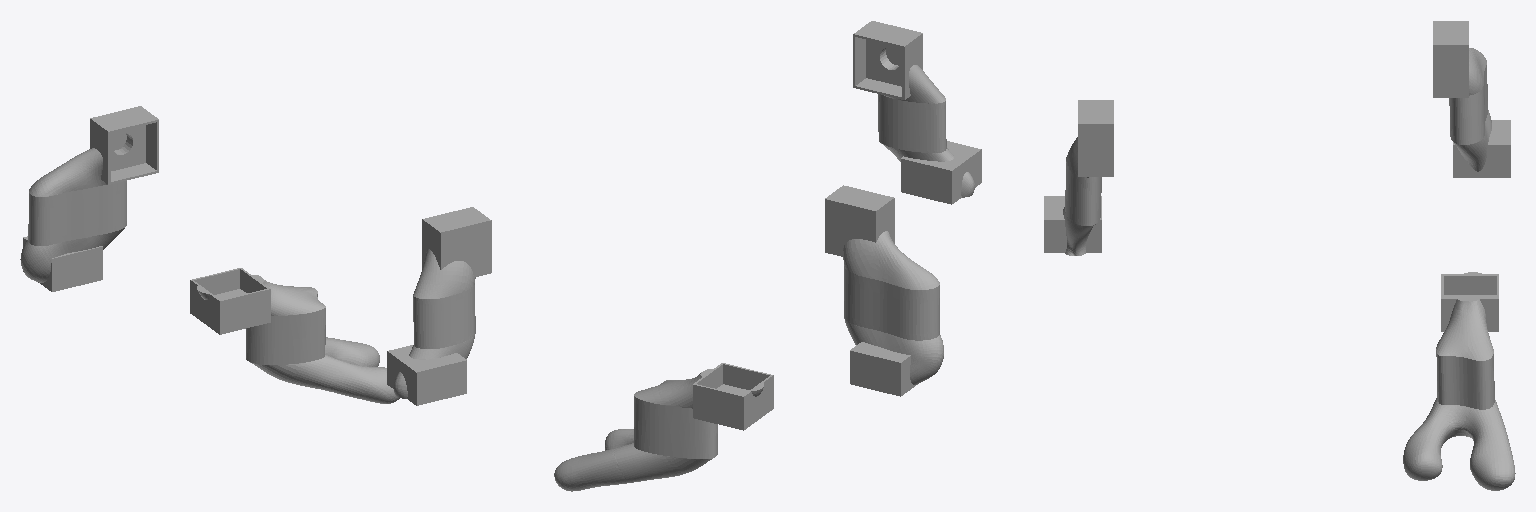
The robot description file, URDF, robot "FrogBot3_top-FrogBot3-x-9_bottom-FrogBot3-x-9":
<?xml version="1.0" ?>
<robot name="FrogBot3_top-FrogBot3-x-9_bottom-FrogBot3-x-9">

<material name="pla_5_percent_infill">
  <color rgba="0.700 0.700 0.700 1.000"/>
</material>

<link name="base_link">
  <inertial>
    <origin xyz="0 0 0" rpy="0 0 0"/>
    <mass value="1.5419899792307459"/>
    <inertia ixx="0.0054836076661745285" iyy="0.013703915460827342" izz="0.013742849788882953" ixy="5.961000823851627e-05" iyz="4.9944941207841843e-05" ixz="-0.0023657822822012154"/>
  </inertial>
  <visual>
    <origin xyz="0 0 0" rpy="0 0 0"/>
    <geometry>
      <mesh filename="simple_meshes/base_link.stl" scale="0.001 0.001 0.001"/>
    </geometry>
    <material name="pla_5_percent_infill"/>
  </visual>
  <collision>
    <origin xyz="0 0 0" rpy="0 0 0"/>
    <geometry>
      <mesh filename="simple_meshes/base_link.stl" scale="0.001 0.001 0.001"/>
    </geometry>
  </collision>
</link>

<link name="body_1_0_1">
  <inertial>
    <origin xyz="-0.065859 -0.113451 -0.001976" rpy="0 0 0"/>
    <mass value="0.05825244996075587"/>
    <inertia ixx="7.401779701818301e-05" iyy="9.274657633629422e-05" izz="3.144661036998228e-05" ixy="3.906924635971223e-06" iyz="5.81595740162434e-06" ixz="-2.1796843568814986e-05"/>
  </inertial>
  <visual>
    <origin xyz="-0.065859 -0.113451 -0.001976" rpy="0 0 0"/>
    <geometry>
      <mesh filename="simple_meshes/body_1_0_1.stl" scale="0.001 0.001 0.001"/>
    </geometry>
    <material name="pla_5_percent_infill"/>
  </visual>
  <collision>
    <origin xyz="-0.065859 -0.113451 -0.001976" rpy="0 0 0"/>
    <geometry>
      <mesh filename="simple_meshes/body_1_0_1.stl" scale="0.001 0.001 0.001"/>
    </geometry>
  </collision>
</link>

<link name="body_1_1_1">
  <inertial>
    <origin xyz="0.083929 -0.113451 -0.010696" rpy="0 0 0"/>
    <mass value="0.09018840338840749"/>
    <inertia ixx="0.00011034544128908901" iyy="0.00016147301227200468" izz="7.169689434959785e-05" ixy="7.1595030686100614e-06" iyz="1.4293410132438177e-05" ixz="-3.633021271587161e-05"/>
  </inertial>
  <visual>
    <origin xyz="0.083929 -0.113451 -0.010696" rpy="0 0 0"/>
    <geometry>
      <mesh filename="simple_meshes/body_1_1_1.stl" scale="0.001 0.001 0.001"/>
    </geometry>
    <material name="pla_5_percent_infill"/>
  </visual>
  <collision>
    <origin xyz="0.083929 -0.113451 -0.010696" rpy="0 0 0"/>
    <geometry>
      <mesh filename="simple_meshes/body_1_1_1.stl" scale="0.001 0.001 0.001"/>
    </geometry>
  </collision>
</link>

<link name="body_1_2_1">
  <inertial>
    <origin xyz="-0.060736 0.113451 -0.005366" rpy="0 0 0"/>
    <mass value="0.060377482328634796"/>
    <inertia ixx="8.061035058996619e-05" iyy="9.781911676444733e-05" izz="3.08981335929142e-05" ixy="-3.849492058857252e-06" iyz="-8.245144629617025e-06" ixz="-2.264904297466596e-05"/>
  </inertial>
  <visual>
    <origin xyz="-0.060736 0.113451 -0.005366" rpy="0 0 0"/>
    <geometry>
      <mesh filename="simple_meshes/body_1_2_1.stl" scale="0.001 0.001 0.001"/>
    </geometry>
    <material name="pla_5_percent_infill"/>
  </visual>
  <collision>
    <origin xyz="-0.060736 0.113451 -0.005366" rpy="0 0 0"/>
    <geometry>
      <mesh filename="simple_meshes/body_1_2_1.stl" scale="0.001 0.001 0.001"/>
    </geometry>
  </collision>
</link>

<link name="body_1_3_1">
  <inertial>
    <origin xyz="0.093982 0.113451 -0.005431" rpy="0 0 0"/>
    <mass value="0.0938692764327006"/>
    <inertia ixx="0.0001046186995870774" iyy="0.0001469423829291458" izz="6.591365614965101e-05" ixy="-5.552051593383459e-06" iyz="-1.29619168445878e-05" ixz="-2.6967552913130456e-05"/>
  </inertial>
  <visual>
    <origin xyz="0.093982 0.113451 -0.005431" rpy="0 0 0"/>
    <geometry>
      <mesh filename="simple_meshes/body_1_3_1.stl" scale="0.001 0.001 0.001"/>
    </geometry>
    <material name="pla_5_percent_infill"/>
  </visual>
  <collision>
    <origin xyz="0.093982 0.113451 -0.005431" rpy="0 0 0"/>
    <geometry>
      <mesh filename="simple_meshes/body_1_3_1.stl" scale="0.001 0.001 0.001"/>
    </geometry>
  </collision>
</link>

<link name="body_2_0_1">
  <inertial>
    <origin xyz="-0.026166 -0.164707 0.127895" rpy="0 0 0"/>
    <mass value="0.12142814301219355"/>
    <inertia ixx="0.00015726924153450055" iyy="0.0002881354570726897" izz="0.00021515924644420654" ixy="3.2779278202870604e-06" iyz="-5.447619948898211e-06" ixz="0.00011102038337744901"/>
  </inertial>
  <visual>
    <origin xyz="-0.026166 -0.164707 0.127895" rpy="0 0 0"/>
    <geometry>
      <mesh filename="simple_meshes/body_2_0_1.stl" scale="0.001 0.001 0.001"/>
    </geometry>
    <material name="pla_5_percent_infill"/>
  </visual>
  <collision>
    <origin xyz="-0.026166 -0.164707 0.127895" rpy="0 0 0"/>
    <geometry>
      <mesh filename="simple_meshes/body_2_0_1.stl" scale="0.001 0.001 0.001"/>
    </geometry>
  </collision>
</link>

<link name="body_2_1_1">
  <inertial>
    <origin xyz="0.127747 -0.174737 0.127895" rpy="0 0 0"/>
    <mass value="0.09571732939847451"/>
    <inertia ixx="0.00011195646025483844" iyy="0.0001651913556045886" izz="0.00011191993527143781" ixy="-1.041822947803737e-05" iyz="5.977710212816401e-06" ixz="6.22998779587899e-05"/>
  </inertial>
  <visual>
    <origin xyz="0.127747 -0.174737 0.127895" rpy="0 0 0"/>
    <geometry>
      <mesh filename="simple_meshes/body_2_1_1.stl" scale="0.001 0.001 0.001"/>
    </geometry>
    <material name="pla_5_percent_infill"/>
  </visual>
  <collision>
    <origin xyz="0.127747 -0.174737 0.127895" rpy="0 0 0"/>
    <geometry>
      <mesh filename="simple_meshes/body_2_1_1.stl" scale="0.001 0.001 0.001"/>
    </geometry>
  </collision>
</link>

<link name="body_2_2_1">
  <inertial>
    <origin xyz="-0.021708 0.167525 0.127895" rpy="0 0 0"/>
    <mass value="0.11898774937774143"/>
    <inertia ixx="0.0001544200841262517" iyy="0.0002833430003338789" izz="0.0002102682674553786" ixy="2.8769886577021102e-06" iyz="-2.2440762868902037e-06" ixz="0.000109949722128837"/>
  </inertial>
  <visual>
    <origin xyz="-0.021708 0.167525 0.127895" rpy="0 0 0"/>
    <geometry>
      <mesh filename="simple_meshes/body_2_2_1.stl" scale="0.001 0.001 0.001"/>
    </geometry>
    <material name="pla_5_percent_infill"/>
  </visual>
  <collision>
    <origin xyz="-0.021708 0.167525 0.127895" rpy="0 0 0"/>
    <geometry>
      <mesh filename="simple_meshes/body_2_2_1.stl" scale="0.001 0.001 0.001"/>
    </geometry>
  </collision>
</link>

<link name="body_2_3_1">
  <inertial>
    <origin xyz="0.128136 0.172985 0.127895" rpy="0 0 0"/>
    <mass value="0.09031557015637327"/>
    <inertia ixx="0.00010964595064733192" iyy="0.0001543168102944477" izz="0.00010846688739868902" ixy="8.577887715155788e-06" iyz="-7.466082158280422e-06" ixz="5.684621143704099e-05"/>
  </inertial>
  <visual>
    <origin xyz="0.128136 0.172985 0.127895" rpy="0 0 0"/>
    <geometry>
      <mesh filename="simple_meshes/body_2_3_1.stl" scale="0.001 0.001 0.001"/>
    </geometry>
    <material name="pla_5_percent_infill"/>
  </visual>
  <collision>
    <origin xyz="0.128136 0.172985 0.127895" rpy="0 0 0"/>
    <geometry>
      <mesh filename="simple_meshes/body_2_3_1.stl" scale="0.001 0.001 0.001"/>
    </geometry>
  </collision>
</link>

<joint name="joint_1_0" type="revolute">
  <origin xyz="0.065859 0.113451 0.001976" rpy="0 0 0"/>
  <parent link="base_link"/>
  <child link="body_1_0_1"/>
  <axis xyz="1.0 0.0 0.0"/>
  <limit upper="1.2" lower="-1.2" effort="3.8" velocity="5.4"/>
</joint>
<transmission name="joint_1_0_tran">
  <type>transmission_interface/SimpleTransmission</type>
  <joint name="joint_1_0">
    <hardwareInterface>PositionJointInterface</hardwareInterface>
  </joint>
  <actuator name="joint_1_0_actr">
    <hardwareInterface>PositionJointInterface</hardwareInterface>
    <mechanicalReduction>1</mechanicalReduction>
  </actuator>
</transmission>

<joint name="joint_1_1" type="revolute">
  <origin xyz="-0.083929 0.113451 0.010696" rpy="0 0 0"/>
  <parent link="base_link"/>
  <child link="body_1_1_1"/>
  <axis xyz="1.0 0.0 0.0"/>
  <limit upper="1.2" lower="-1.2" effort="3.8" velocity="5.4"/>
</joint>
<transmission name="joint_1_1_tran">
  <type>transmission_interface/SimpleTransmission</type>
  <joint name="joint_1_1">
    <hardwareInterface>PositionJointInterface</hardwareInterface>
  </joint>
  <actuator name="joint_1_1_actr">
    <hardwareInterface>PositionJointInterface</hardwareInterface>
    <mechanicalReduction>1</mechanicalReduction>
  </actuator>
</transmission>

<joint name="joint_1_2" type="revolute">
  <origin xyz="0.060736 -0.113451 0.005366" rpy="0 0 0"/>
  <parent link="base_link"/>
  <child link="body_1_2_1"/>
  <axis xyz="1.0 0.0 0.0"/>
  <limit upper="1.2" lower="-1.2" effort="3.8" velocity="5.4"/>
</joint>
<transmission name="joint_1_2_tran">
  <type>transmission_interface/SimpleTransmission</type>
  <joint name="joint_1_2">
    <hardwareInterface>PositionJointInterface</hardwareInterface>
  </joint>
  <actuator name="joint_1_2_actr">
    <hardwareInterface>PositionJointInterface</hardwareInterface>
    <mechanicalReduction>1</mechanicalReduction>
  </actuator>
</transmission>

<joint name="joint_1_3" type="revolute">
  <origin xyz="-0.093982 -0.113451 0.005431" rpy="0 0 0"/>
  <parent link="base_link"/>
  <child link="body_1_3_1"/>
  <axis xyz="1.0 0.0 0.0"/>
  <limit upper="1.2" lower="-1.2" effort="3.8" velocity="5.4"/>
</joint>
<transmission name="joint_1_3_tran">
  <type>transmission_interface/SimpleTransmission</type>
  <joint name="joint_1_3">
    <hardwareInterface>PositionJointInterface</hardwareInterface>
  </joint>
  <actuator name="joint_1_3_actr">
    <hardwareInterface>PositionJointInterface</hardwareInterface>
    <mechanicalReduction>1</mechanicalReduction>
  </actuator>
</transmission>

<joint name="joint_2_0" type="revolute">
  <origin xyz="-0.039693 0.051256 -0.129871" rpy="0 0 0"/>
  <parent link="body_1_0_1"/>
  <child link="body_2_0_1"/>
  <axis xyz="1.0 0.0 0.0"/>
  <limit upper="1.2" lower="-1.2" effort="3.8" velocity="5.4"/>
</joint>
<transmission name="joint_2_0_tran">
  <type>transmission_interface/SimpleTransmission</type>
  <joint name="joint_2_0">
    <hardwareInterface>PositionJointInterface</hardwareInterface>
  </joint>
  <actuator name="joint_2_0_actr">
    <hardwareInterface>PositionJointInterface</hardwareInterface>
    <mechanicalReduction>1</mechanicalReduction>
  </actuator>
</transmission>

<joint name="joint_2_1" type="revolute">
  <origin xyz="-0.043818 0.061286 -0.138591" rpy="0 0 0"/>
  <parent link="body_1_1_1"/>
  <child link="body_2_1_1"/>
  <axis xyz="1.0 0.0 0.0"/>
  <limit upper="1.2" lower="-1.2" effort="3.8" velocity="5.4"/>
</joint>
<transmission name="joint_2_1_tran">
  <type>transmission_interface/SimpleTransmission</type>
  <joint name="joint_2_1">
    <hardwareInterface>PositionJointInterface</hardwareInterface>
  </joint>
  <actuator name="joint_2_1_actr">
    <hardwareInterface>PositionJointInterface</hardwareInterface>
    <mechanicalReduction>1</mechanicalReduction>
  </actuator>
</transmission>

<joint name="joint_2_2" type="revolute">
  <origin xyz="-0.039028 -0.054074 -0.133261" rpy="0 0 0"/>
  <parent link="body_1_2_1"/>
  <child link="body_2_2_1"/>
  <axis xyz="1.0 0.0 0.0"/>
  <limit upper="1.2" lower="-1.2" effort="3.8" velocity="5.4"/>
</joint>
<transmission name="joint_2_2_tran">
  <type>transmission_interface/SimpleTransmission</type>
  <joint name="joint_2_2">
    <hardwareInterface>PositionJointInterface</hardwareInterface>
  </joint>
  <actuator name="joint_2_2_actr">
    <hardwareInterface>PositionJointInterface</hardwareInterface>
    <mechanicalReduction>1</mechanicalReduction>
  </actuator>
</transmission>

<joint name="joint_2_3" type="revolute">
  <origin xyz="-0.034154 -0.059534 -0.133326" rpy="0 0 0"/>
  <parent link="body_1_3_1"/>
  <child link="body_2_3_1"/>
  <axis xyz="1.0 0.0 0.0"/>
  <limit upper="1.2" lower="-1.2" effort="3.8" velocity="5.4"/>
</joint>
<transmission name="joint_2_3_tran">
  <type>transmission_interface/SimpleTransmission</type>
  <joint name="joint_2_3">
    <hardwareInterface>PositionJointInterface</hardwareInterface>
  </joint>
  <actuator name="joint_2_3_actr">
    <hardwareInterface>PositionJointInterface</hardwareInterface>
    <mechanicalReduction>1</mechanicalReduction>
  </actuator>
</transmission>

</robot>

--- What the picture shows (computed from the rendered views, not written in the file) ---
Views: 3 orthographic renders of the robot side by side, from view 1: azimuth 30°, elevation 25°; view 2: azimuth 150°, elevation 25°; view 3: azimuth 270°, elevation 25°.
Model FrogBot3_top-FrogBot3-x-9_bottom-FrogBot3-x-9 with 9 links and 8 joints (8 revolute), rooted at base_link, posed every joint at zero.
Links seen in each view (by area): view 1: body_1_1_1, body_2_0_1, body_1_2_1; view 2: body_1_1_1, body_2_0_1, body_1_2_1; view 3: body_2_0_1, body_1_1_1, body_1_2_1.
Boxes of the visible links, box(x1,y1,x2,y2) form: body_1_1_1: box(20, 106, 158, 291); body_2_0_1: box(190, 268, 399, 403); body_1_2_1: box(387, 207, 491, 405); body_1_1_1: box(825, 185, 943, 396); body_2_0_1: box(554, 363, 773, 491); body_1_2_1: box(853, 21, 981, 204); body_2_0_1: box(1403, 272, 1515, 490); body_1_1_1: box(1433, 21, 1510, 177); body_1_2_1: box(1044, 100, 1113, 255).
Size in the robot's own frame: 0.3509 by 0.3943 by 0.3058 metres.
Meshes: 9 distinct files referenced, 3 mesh visuals loaded (3 binary STL); not drawn: 6 (reference not matched to a file when rendering).